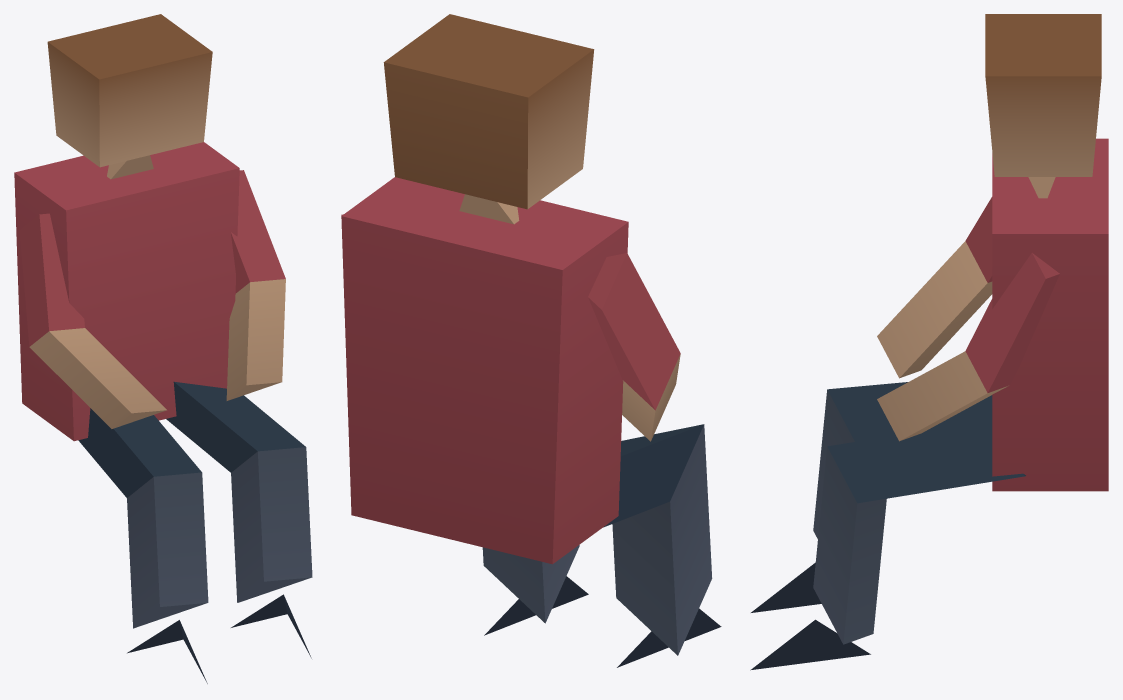
Rendered from fan-11.glb.
The picture shows the model from 3 angles, left to right: view 1: azimuth 30°, elevation 25°; view 2: azimuth 150°, elevation 25°; view 3: azimuth 270°, elevation 25°; orthographic projection. The views are drawn at different scales.
Visible parts, largest first — view 1: fan-11; view 2: fan-11; view 3: fan-11.
Part boxes in pixels (left/top/right/bottom): fan-11: left=14, top=14, right=312, bottom=683; fan-11: left=341, top=14, right=721, bottom=667; fan-11: left=750, top=14, right=1108, bottom=670.
Size of the model in its own units: 0.6875 by 1.41 by 0.77.
